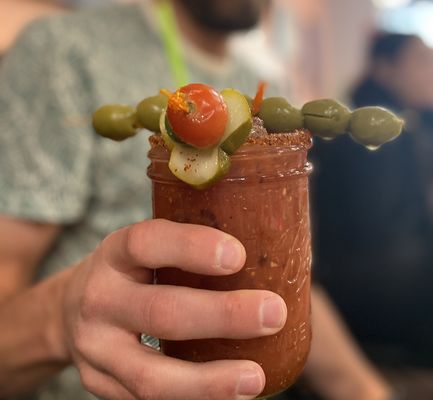pizza: (1, 4, 359, 396)
